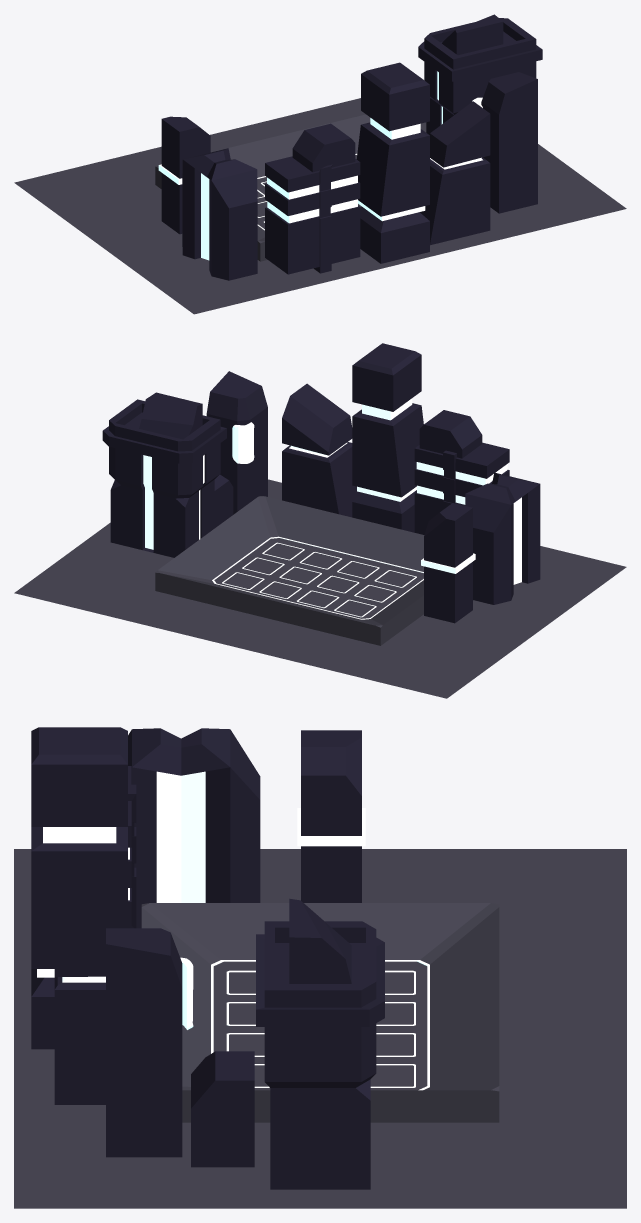
Rendered from arena01.fbx.
3 renders of one model, top to bottom at view 1: azimuth 30°, elevation 25°; view 2: azimuth 150°, elevation 25°; view 3: azimuth 270°, elevation 25°, orthographic. The views are drawn at different scales.
Parts seen in each view (by area): view 1: chaoARENA, Predio03, Predio02, Cube.001, Predio05, Predio04, Predio07, Predio01, BordaARENA; view 2: chaoARENA, BordaARENA, Predio05, Predio03, Predio04, Cube.001, Predio02, Predio01, Predio07, detalheBordaARENA.001, Predio06, Cube (+1 smaller); view 3: chaoARENA, BordaARENA, Predio05, Cube.001, Predio03, Predio07, Predio01, Predio04, Predio06, detalheBordaARENA.001, Predio02, detalheBordaARENA (+1 smaller).
Boxes of the visible parts, x1,y1,x2,y2 form: chaoARENA: (14, 98, 626, 314); Predio03: (356, 62, 429, 263); Predio02: (265, 123, 360, 274); Cube.001: (182, 148, 257, 280); Predio05: (418, 14, 542, 134); Predio04: (420, 101, 490, 245); Predio07: (481, 72, 537, 213); Predio01: (158, 116, 210, 234); BordaARENA: (155, 114, 370, 261); chaoARENA: (14, 479, 626, 698); BordaARENA: (155, 496, 424, 645); Predio05: (102, 392, 226, 557); Predio03: (352, 343, 423, 532); Predio04: (282, 383, 362, 517); Cube.001: (465, 472, 540, 604); Predio02: (414, 410, 509, 534); Predio01: (421, 503, 475, 623); Predio07: (206, 371, 267, 514); detalheBordaARENA.001: (222, 542, 416, 617); Predio06: (214, 474, 233, 527); Cube: (232, 422, 254, 463); chaoARENA: (14, 849, 626, 1208); BordaARENA: (141, 903, 499, 1122); Predio05: (256, 898, 384, 1189); Cube.001: (128, 728, 260, 928); Predio03: (31, 727, 127, 1049); Predio07: (106, 928, 182, 1157); Predio01: (297, 730, 365, 902); Predio04: (54, 905, 133, 1104); Predio06: (191, 1051, 254, 1167); detalheBordaARENA.001: (226, 970, 415, 1087); Predio02: (128, 766, 136, 928); detalheBordaARENA: (211, 960, 429, 1090).
Size of the model in its own units: 10396 by 4114 by 7490.
